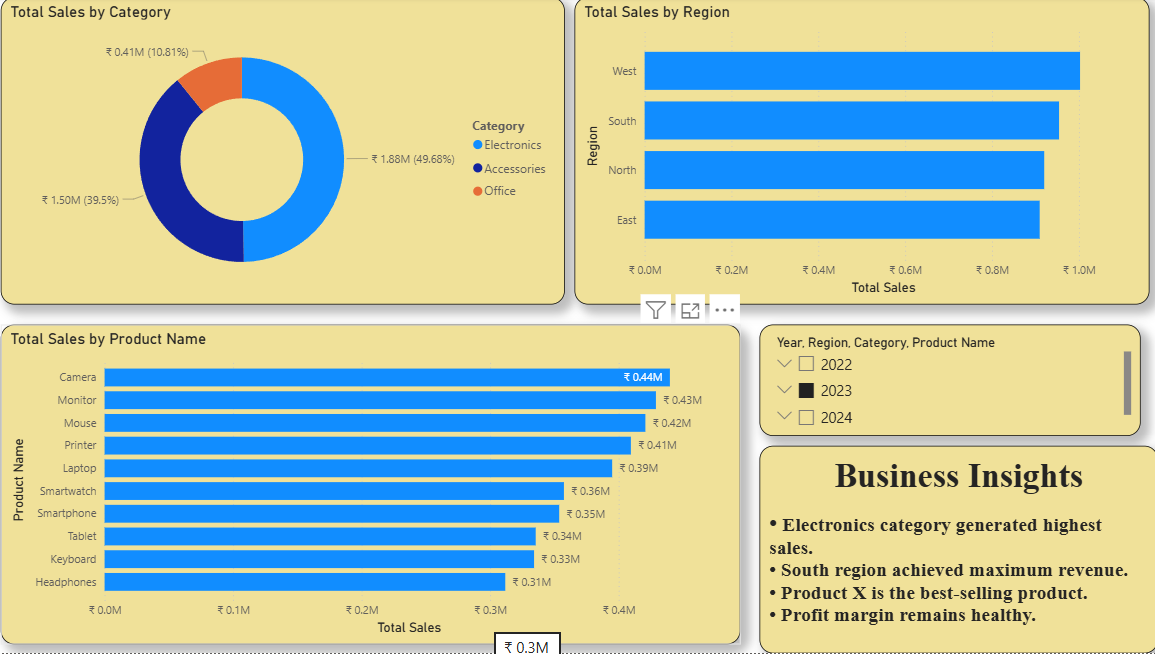

The dashboard page shown, as its layout file describes it:
{"tool":"powerbi","page":{"name":"Page 2","canvas":[1280,720],"ordinal":1},"visuals":[{"type":"donutChart","fields":{"Category":["ecommerce_sales_data (2).Category"],"Y":["ecommerce_sales_data (2).Total Sales"]},"box":[9.6,0,618.9,337.6],"z":0},{"type":"clusteredBarChart","fields":{"Category":["ecommerce_sales_data (2).Region"],"Y":["ecommerce_sales_data (2).Total Sales"]},"box":[639.5,0,631.2,337.6],"z":1},{"type":"barChart","fields":{"Category":["ecommerce_sales_data (2).Product Name"],"Y":["ecommerce_sales_data (2).Total Sales"]},"box":[9.6,359.5,812.4,351.3],"z":2},{"type":"slicer","fields":{"Values":["ecommerce_sales_data (2).Year","ecommerce_sales_data (2).Region","ecommerce_sales_data (2).Category","ecommerce_sales_data (2).Product Name"]},"box":[842.5,359.5,418.5,122.1],"z":3},{"type":"textbox","box":[842.5,492.6,437.7,227.8],"z":4}]}

Visuals, with their boxes in screenshot pixels (x1, y1, x2, y2), scaled from the page's 1280x720 canvas onto the 1155x654 screenshot:
donutChart - ecommerce_sales_data (2).Category x ecommerce_sales_data (2).Total Sales: box(9, 0, 567, 307)
clusteredBarChart - ecommerce_sales_data (2).Region x ecommerce_sales_data (2).Total Sales: box(577, 0, 1147, 307)
barChart - ecommerce_sales_data (2).Product Name x ecommerce_sales_data (2).Total Sales: box(9, 327, 742, 646)
slicer - ecommerce_sales_data (2).Year x ecommerce_sales_data (2).Region: box(760, 327, 1138, 437)
textbox: box(760, 447, 1154, 653)
